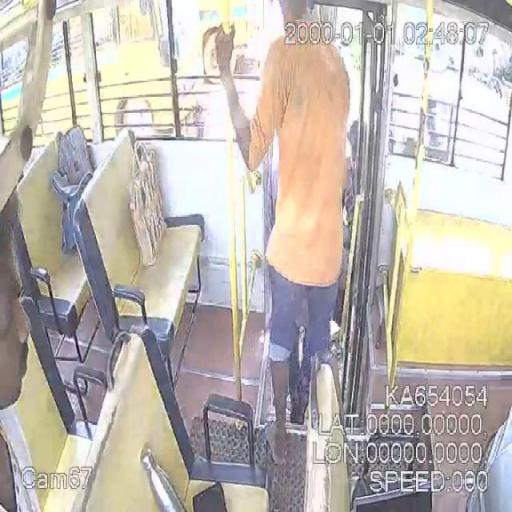persona: (210, 0, 353, 454), (1, 201, 72, 512)
